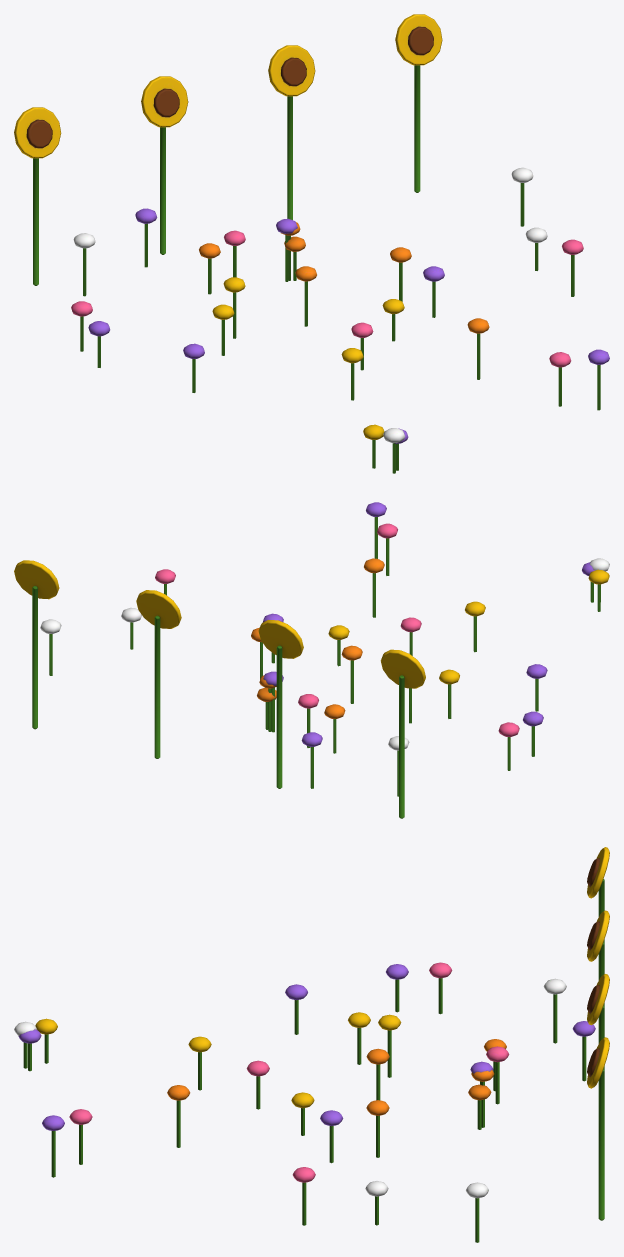
File: beehive.glb
3 renders of one model, top to bottom at view 1: azimuth 30°, elevation 25°; view 2: azimuth 150°, elevation 25°; view 3: azimuth 270°, elevation 25°, orthographic. The views are drawn at different scales.
Visible parts, largest first — view 1: beehive; view 2: beehive; view 3: beehive.
Part boxes in pixels (x1,y1,x2,y2): beehive: (14,14,609,473); beehive: (14,502,609,818); beehive: (14,847,609,1242).
Bounding box in the file's own units: 1.71 × 0.5965 × 1.79.
1 material, 1 textured.
